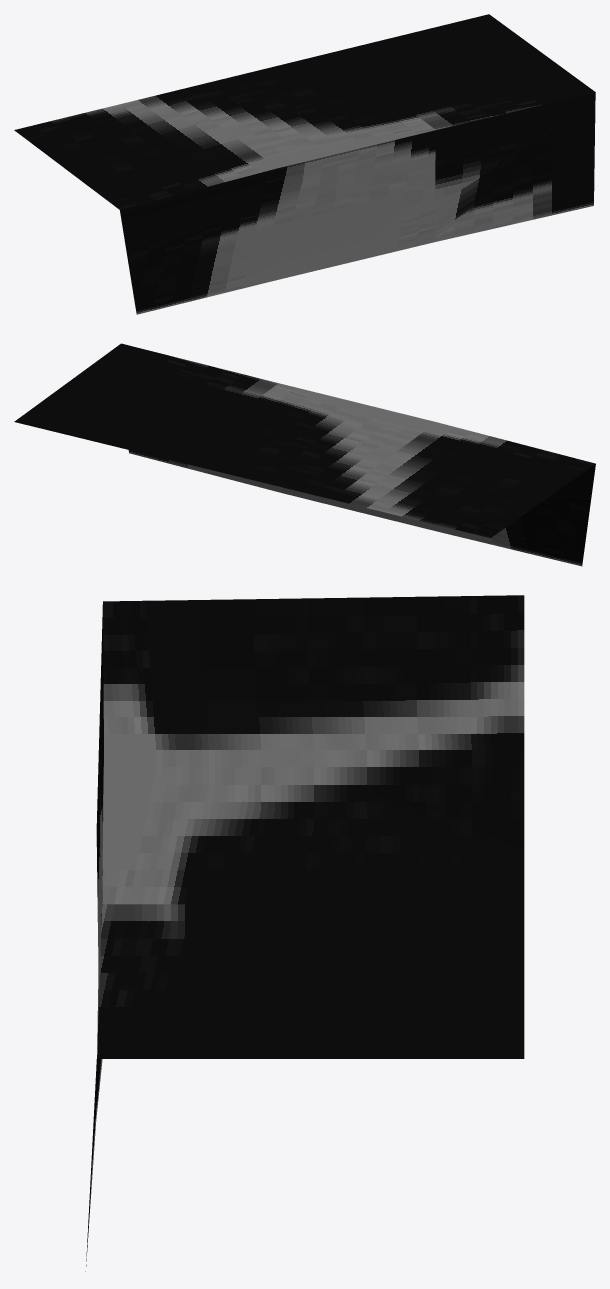
3 renders of one model, top to bottom at view 1: azimuth 30°, elevation 25°; view 2: azimuth 150°, elevation 25°; view 3: azimuth 270°, elevation 25°, orthographic. The views are drawn at different scales.
Parts seen in each view (by area): view 1: Object03; view 2: Object03; view 3: Object03.
Boxes of the visible parts, x1,y1,x2,y2 form: Object03: [14, 14, 595, 314]; Object03: [14, 343, 595, 566]; Object03: [85, 595, 524, 1271].
Bounding box in the file's own units: 450 × 99.79 × 180.
